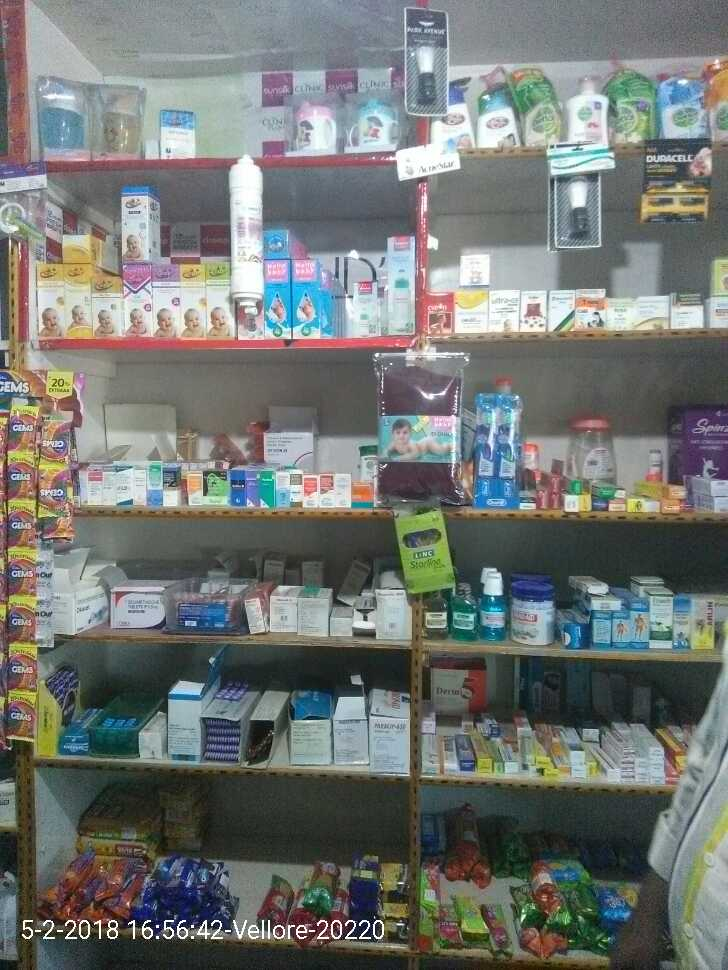oralb: (477, 391, 496, 495), (497, 395, 519, 477)
